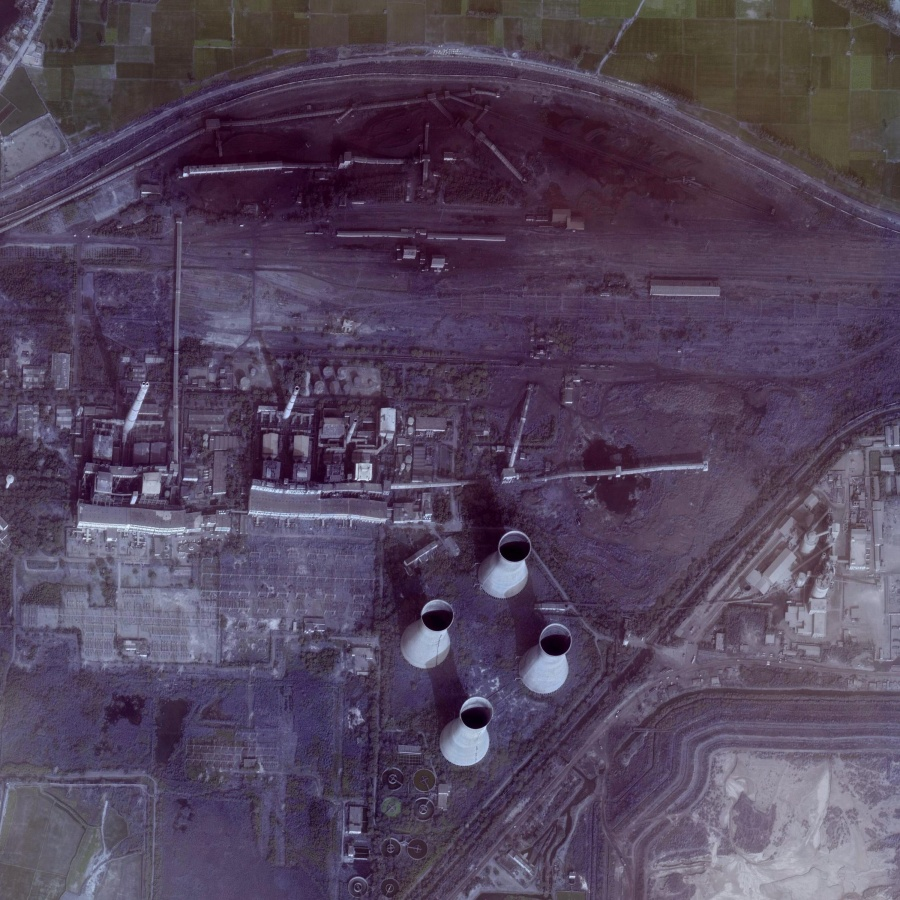PowerPlant: (77, 331, 572, 768)
